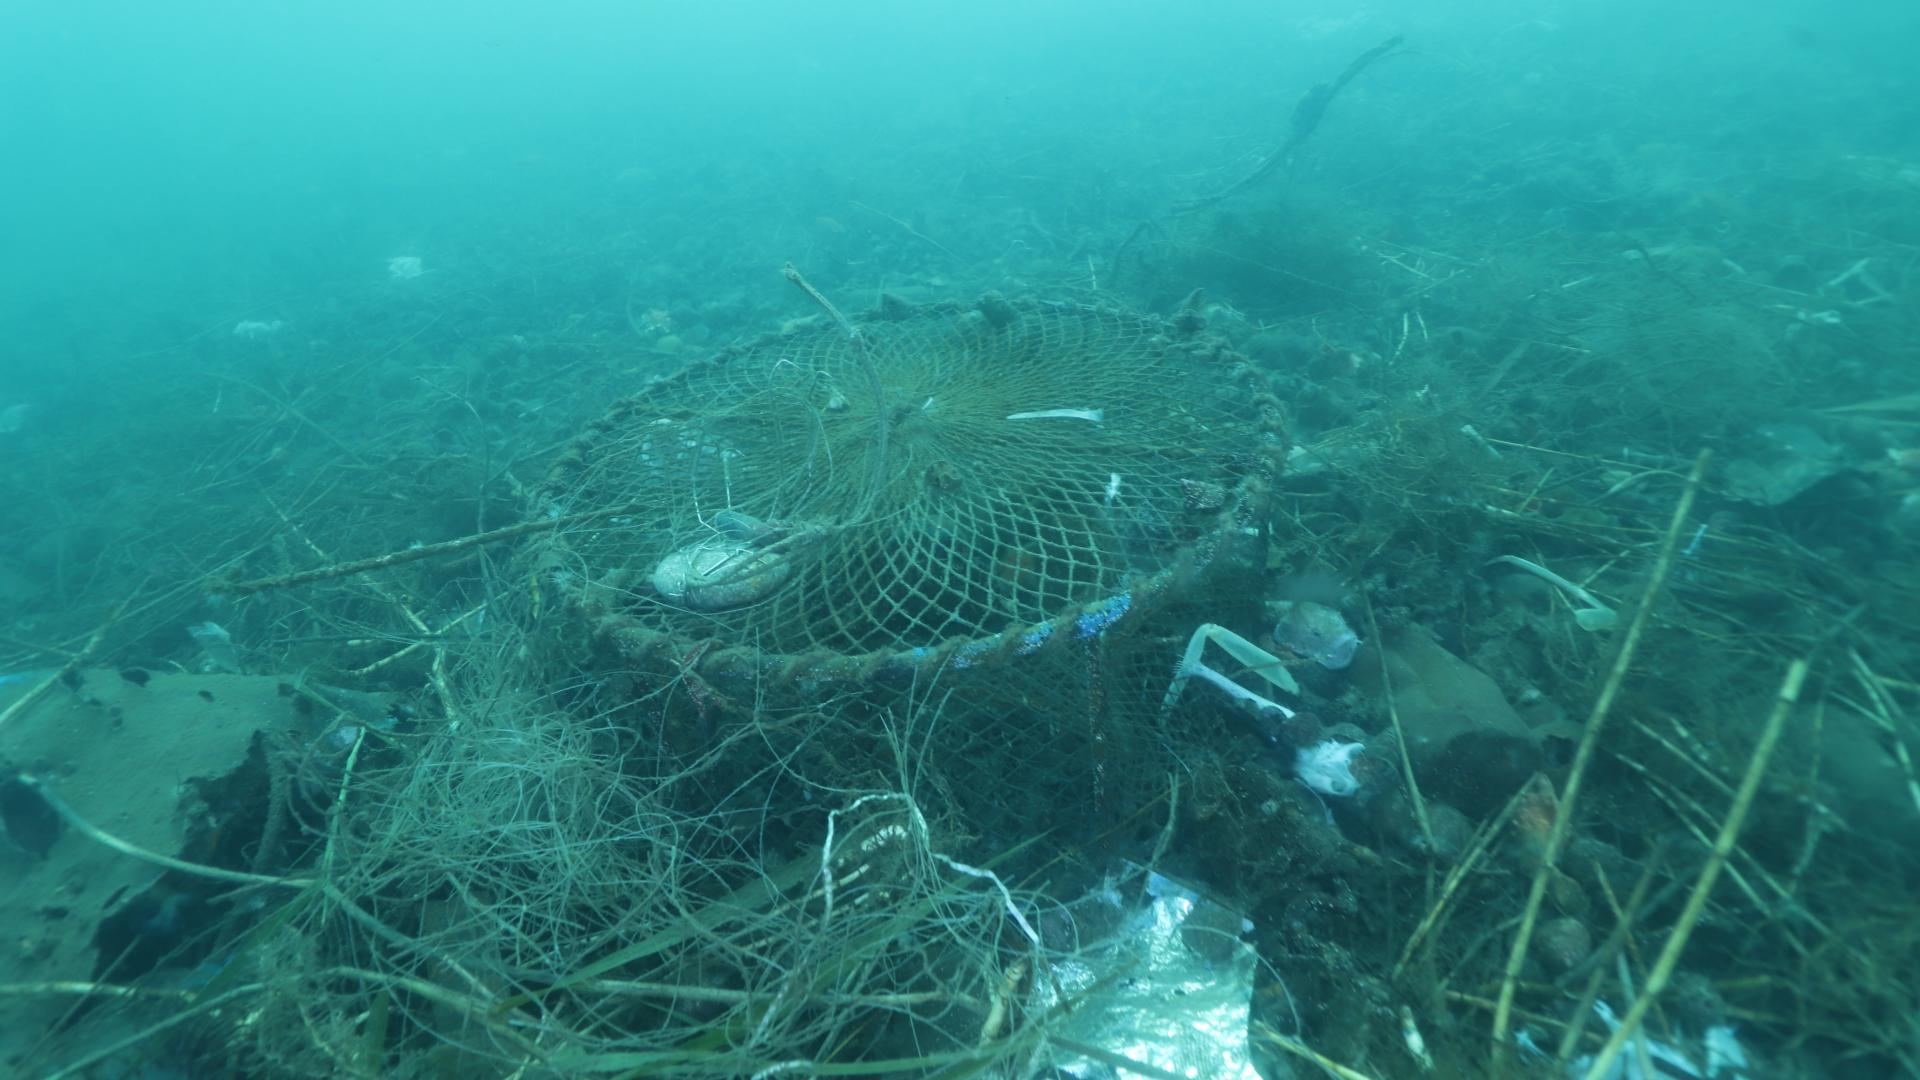circular fish trap: (520, 280, 1298, 740)
